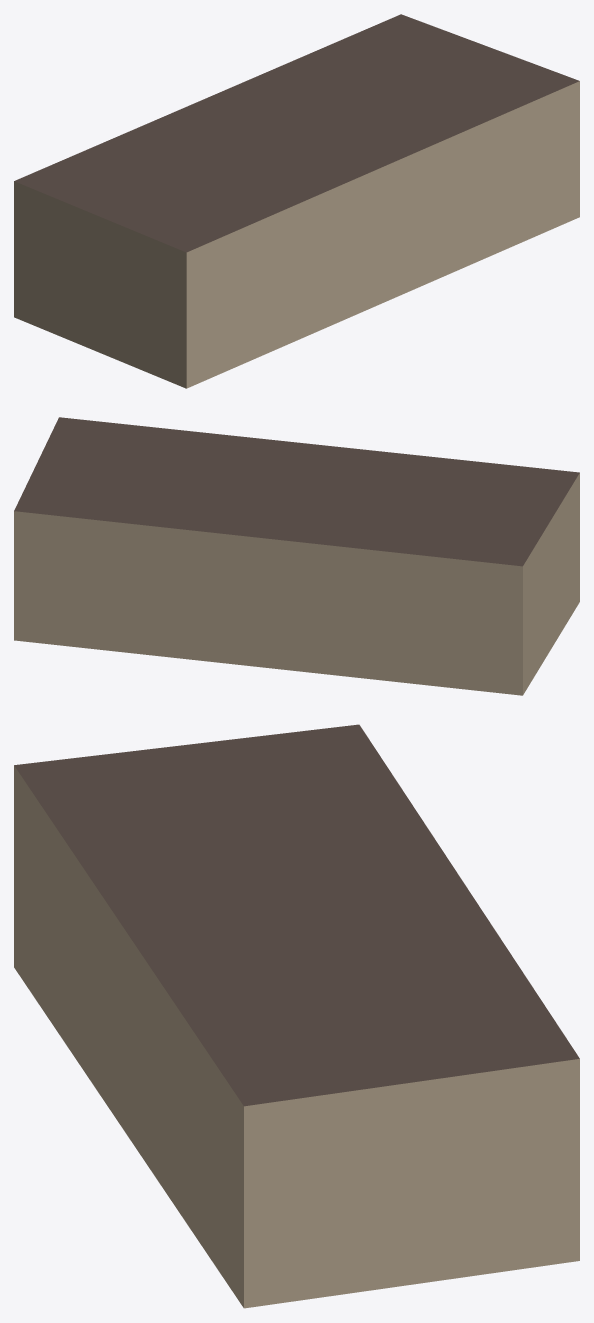
3 renders of one model, top to bottom at view 1: azimuth 30°, elevation 25°; view 2: azimuth 150°, elevation 25°; view 3: azimuth 270°, elevation 25°, orthographic. The views are drawn at different scales.
Visible parts, largest first — view 1: HP-w859457428; view 2: HP-w859457428; view 3: HP-w859457428.
Part boxes in pixels (left/top/right/bottom): HP-w859457428: left=14, top=14, right=579, bottom=388; HP-w859457428: left=14, top=417, right=579, bottom=695; HP-w859457428: left=14, top=724, right=579, bottom=1308.
Size of the model in its own units: 36.47 by 9 by 22.84.
